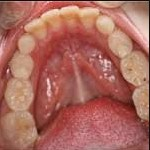UL1BC_healthy: (110, 31, 133, 55)
UL1M_healthy: (133, 84, 150, 117)
UL2BC_decay: (122, 55, 149, 83)
ULCI_healthy: (61, 6, 78, 27)
ULC_healthy: (98, 16, 113, 35)
ULLI_healthy: (80, 8, 97, 28)
UR1BC_healthy: (10, 52, 34, 78)
UR1M_healthy: (5, 112, 37, 150)
UR2BC_healthy: (7, 79, 34, 109)
URCI_healthy: (44, 11, 62, 29)
URC_healthy: (20, 35, 37, 53)
URLI_healthy: (29, 21, 48, 39)
